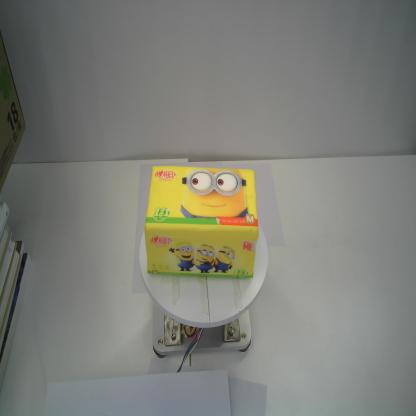Tissue: (145, 164, 260, 280)
